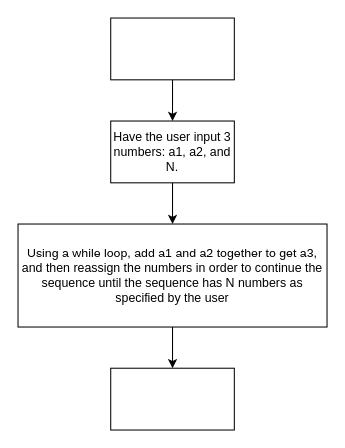
The diagram is 345 pixels wide and 448 high, and some of its shapes have lost their labels. Here are the shapes that lost their labels. From the top down, the box of each, then its label:
(110, 17, 234, 80): start
(110, 367, 234, 430): print sequence
